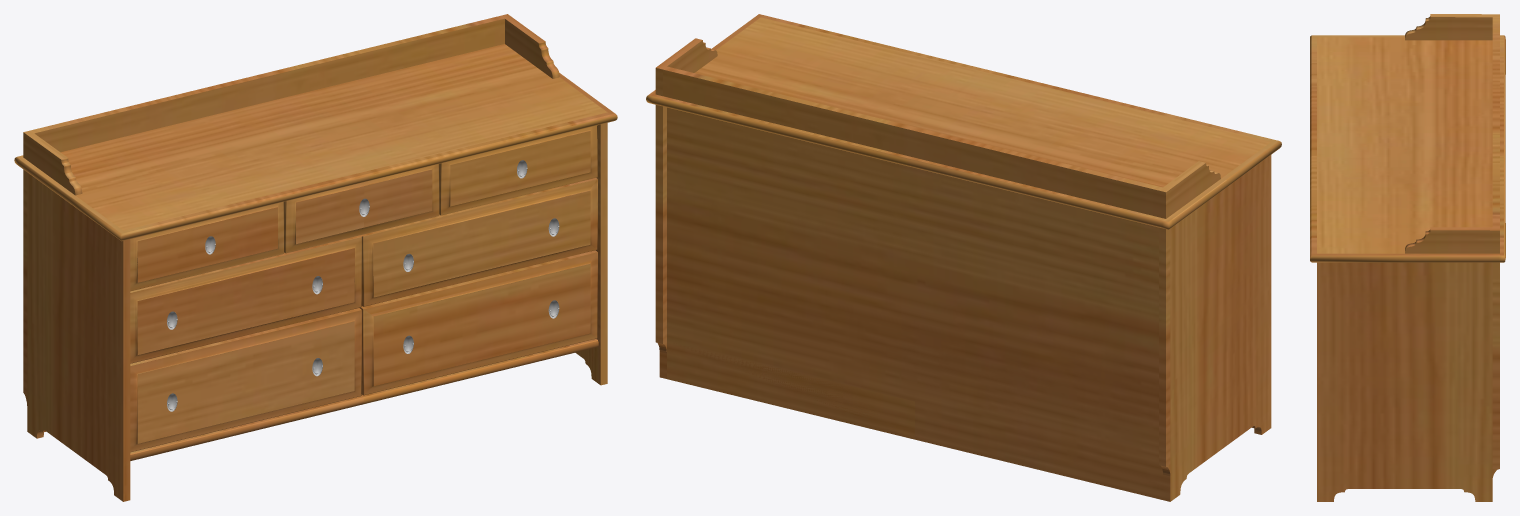
File: by-chest.glb
The picture shows the model from 3 angles, left to right: view 1: azimuth 30°, elevation 25°; view 2: azimuth 150°, elevation 25°; view 3: azimuth 270°, elevation 25°; orthographic projection. The views are drawn at different scales.
Parts seen in each view (by area): view 1: Cube; view 2: Cube; view 3: Cube.
Boxes of the visible parts, x1,y1,x2,y2 form: Cube: (14, 14, 617, 501); Cube: (646, 14, 1281, 501); Cube: (1310, 14, 1505, 501).
Size of the model in its own units: 1.44 by 0.8201 by 0.5361.
2 materials, 1 textured.
